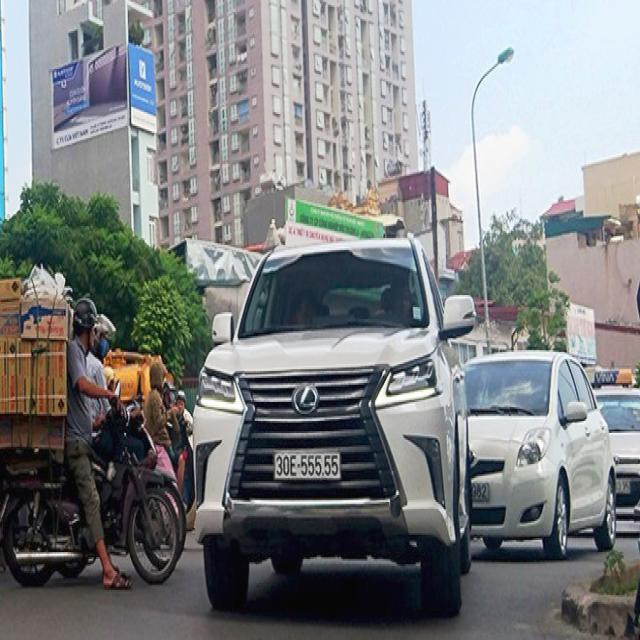license_plate: (276, 454, 342, 479)
